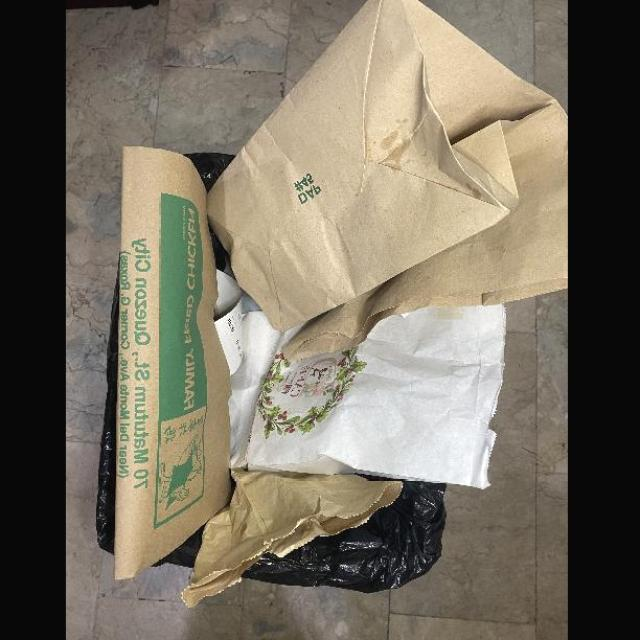giay: (114, 147, 233, 581), (241, 304, 507, 491), (179, 470, 401, 604), (213, 266, 278, 469)
